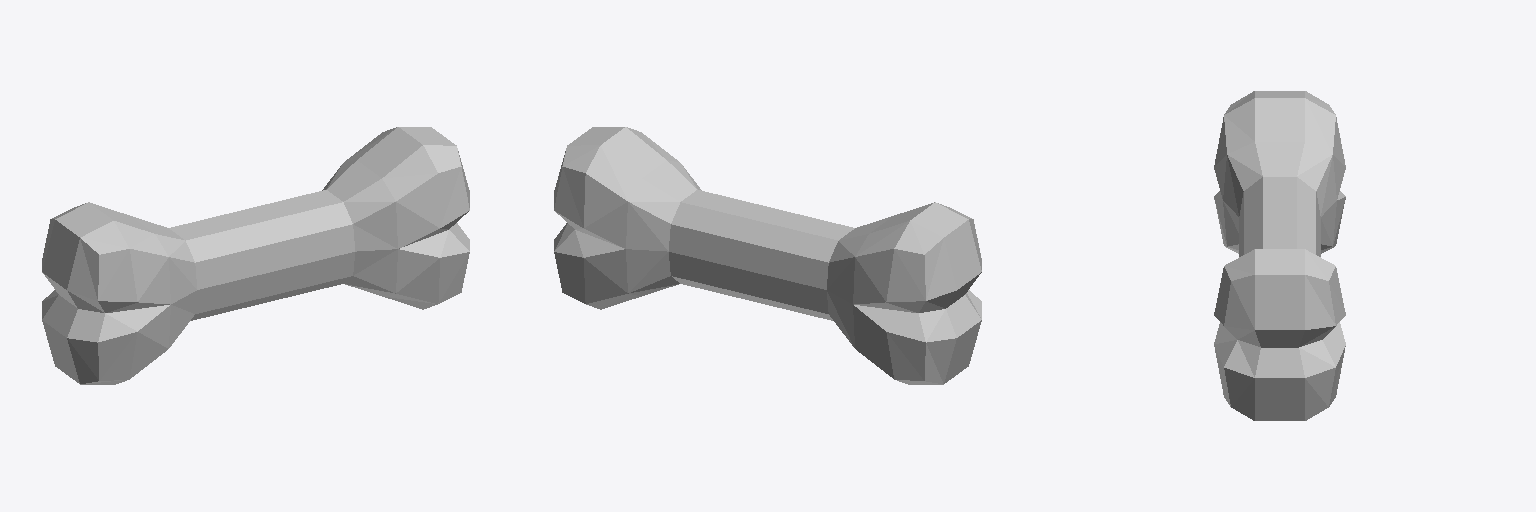
Rendered from bone_A.obj.
3 views of the same model, side by side, from view 1: azimuth 30°, elevation 25°; view 2: azimuth 150°, elevation 25°; view 3: azimuth 270°, elevation 25° (orthographic).
Parts seen in each view (by area): view 1: bone_A_Cube.543; view 2: bone_A_Cube.543; view 3: bone_A_Cube.543.
Boxes of the visible parts, x1,y1,x2,y2 form: bone_A_Cube.543: [42, 127, 469, 384]; bone_A_Cube.543: [554, 127, 981, 384]; bone_A_Cube.543: [1214, 91, 1345, 420].
Bounding box in the file's own units: 0.707 × 0.2761 × 0.2007.